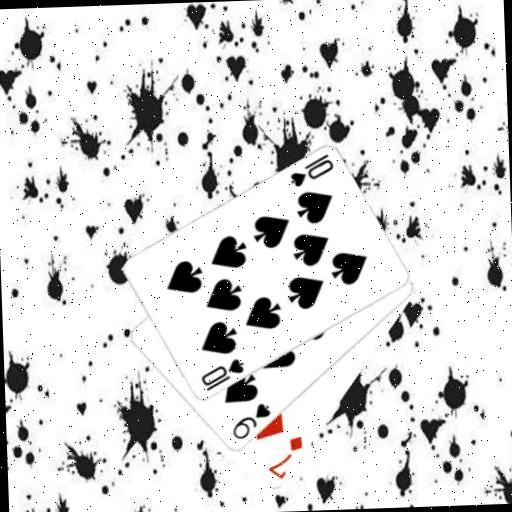10S: (286, 151, 336, 189), (196, 356, 246, 393)
7D: (263, 433, 305, 480)
9S: (228, 400, 273, 442)
